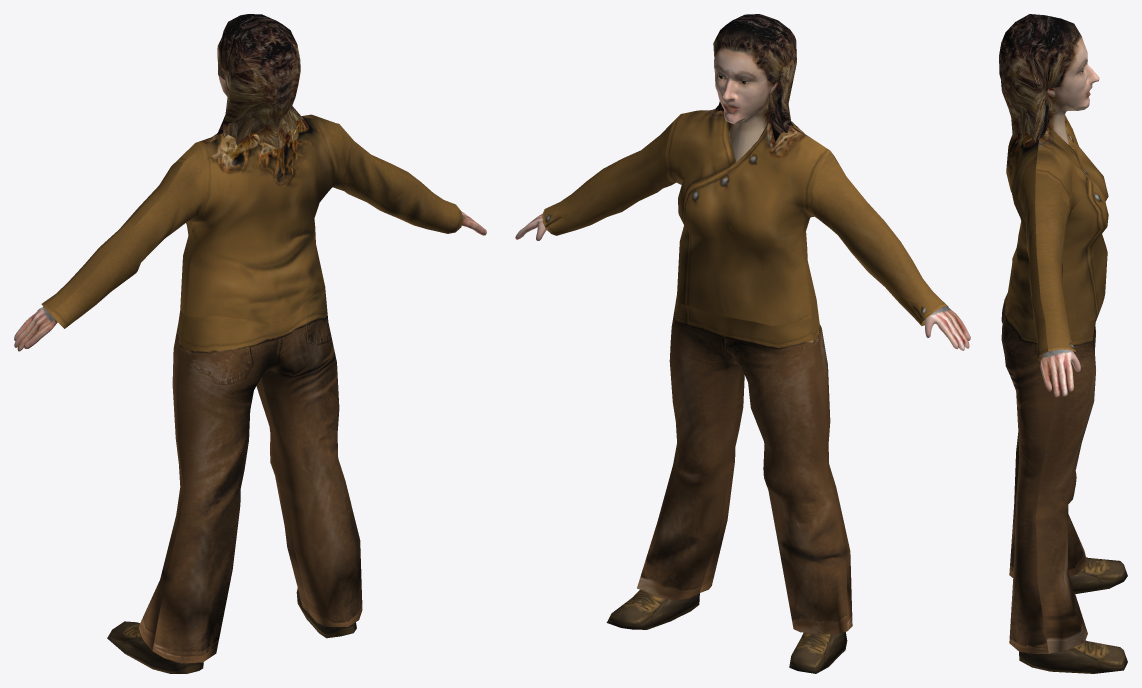
The model's file is civ_female02.glb.
3 views of the same model, side by side, from view 1: azimuth 30°, elevation 25°; view 2: azimuth 150°, elevation 25°; view 3: azimuth 270°, elevation 25° (orthographic). The views are drawn at different scales.
Visible parts, largest first — view 1: cwom0002-t; view 2: cwom0002-t; view 3: cwom0002-t.
Boxes of the visible parts, box(x1,y1,x2,y2) form: cwom0002-t: box(14, 14, 486, 673); cwom0002-t: box(515, 14, 970, 673); cwom0002-t: box(999, 14, 1127, 673).
Size of the model in its own units: 67.06 by 86.35 by 16.63.
1 material, 1 textured.
